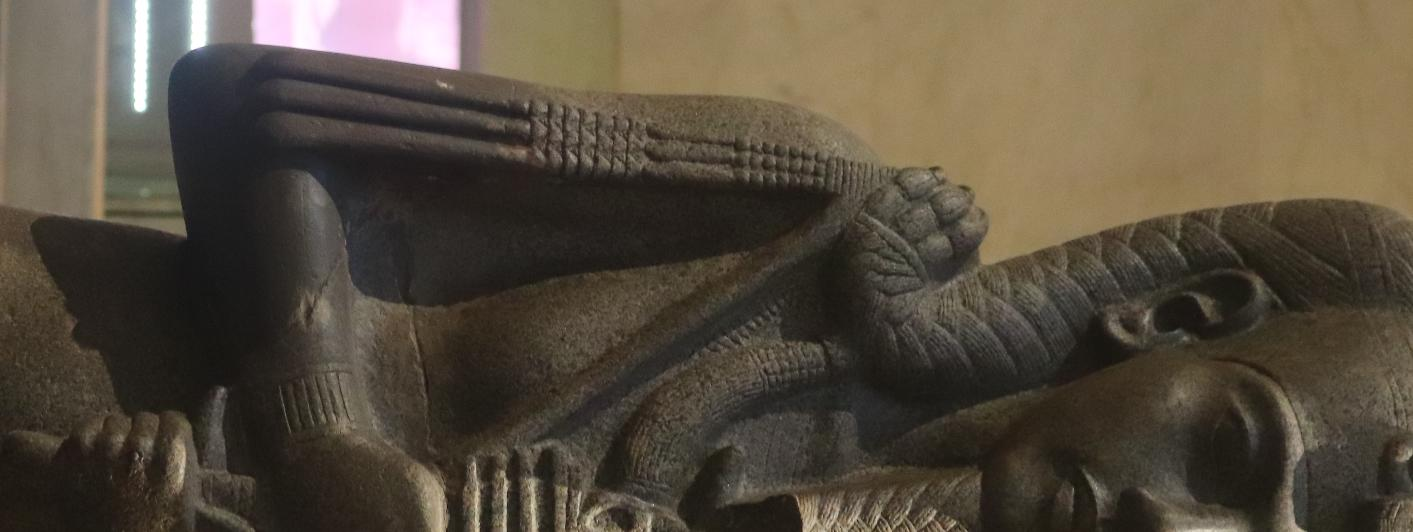Khonsu: (0, 0, 678, 532)
